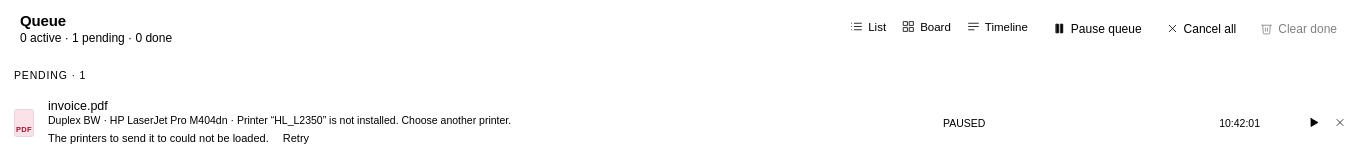
Test: QueueScreen — alternate views › FR-044: a printer list that fails to load says so and can be retried
expect the text "The printers to send it to could not be loaded." is shown: met, box left=48, top=132, right=269, bottom=144
Click the button "Retry" at (296, 138), box left=275, top=130, right=317, bottom=146
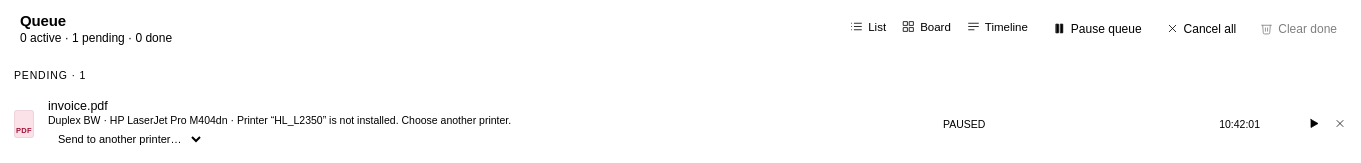
expect the text "The printers to send it to could not be loaded." is gone: met
